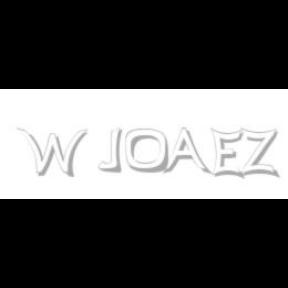A: (161, 128, 209, 176)
E: (210, 128, 243, 180)
J: (97, 128, 122, 172)
O: (124, 128, 170, 174)
W: (16, 128, 88, 178)
Z: (240, 128, 278, 178)
